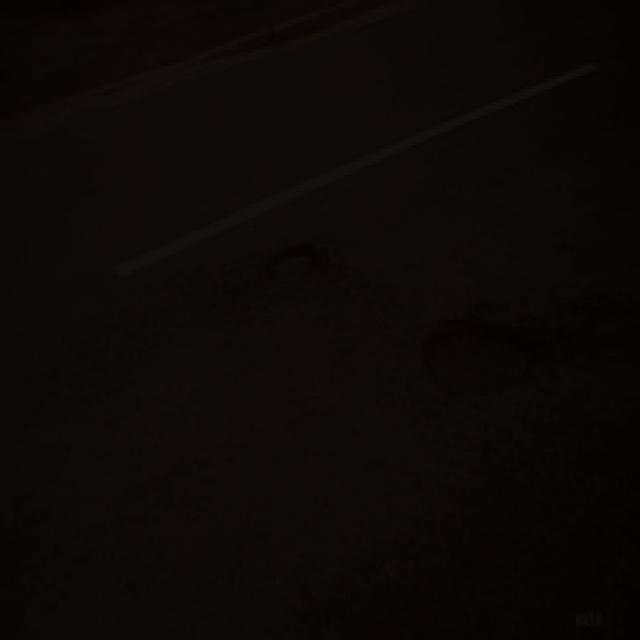Pothole: (398, 305, 554, 410), (255, 242, 328, 294)
